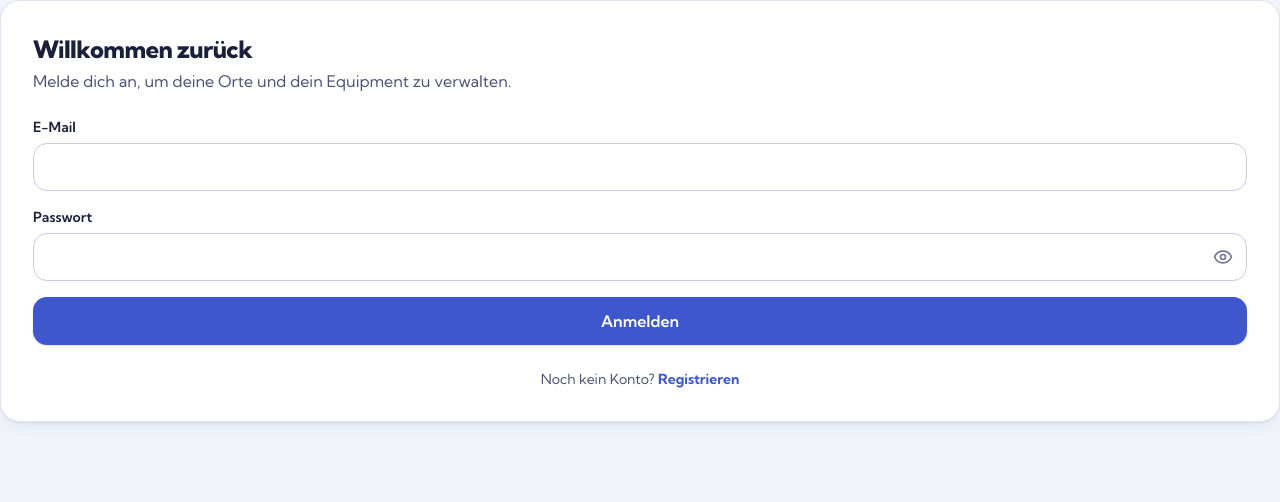
Test case: AuthForm (login) › shows a translated, generic error for wrong credentials and stays on the page
Type "ada@example.com" into the field labelled "E-Mail".
click(640, 167); type("ada@example.com")  # box [33,143,1247,191]
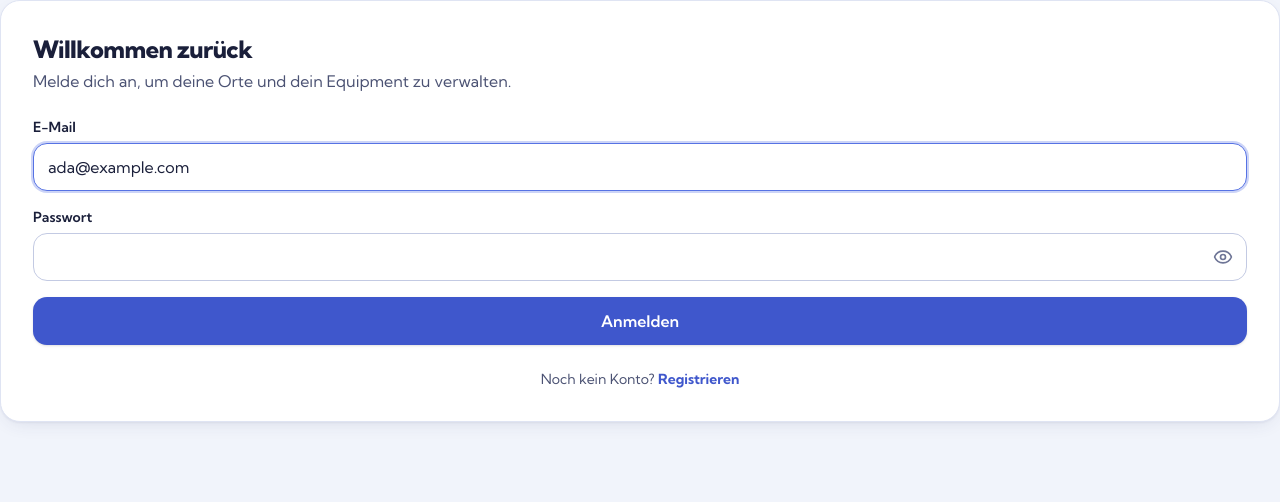
Type "wrong" into the password field labelled "Passwort".
click(640, 257); type("wrong")  # box [33,233,1247,281]
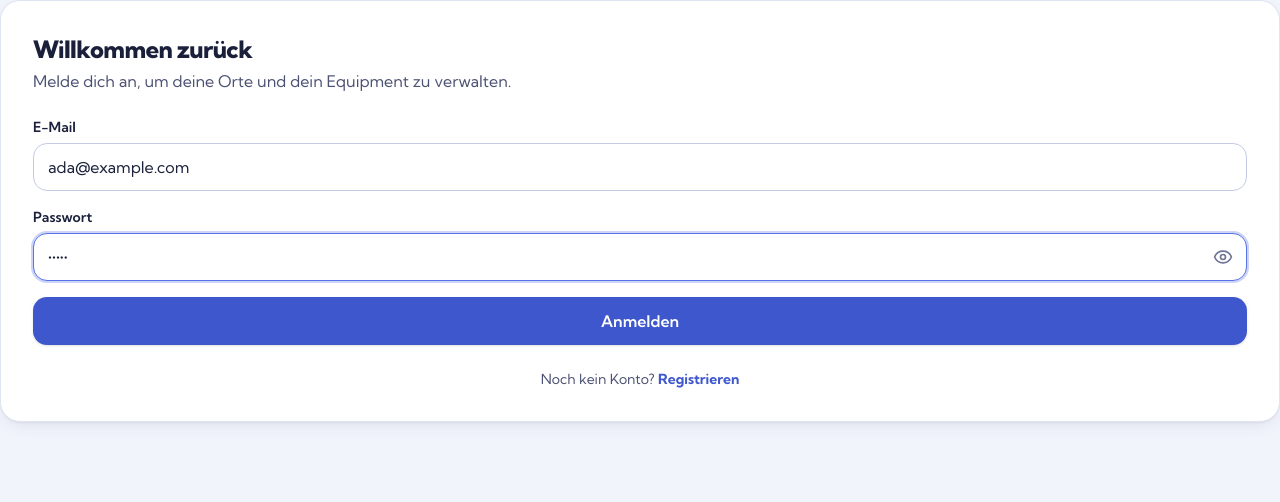
Click the button "Anmelden".
click(640, 321)  # box [33,297,1247,345]
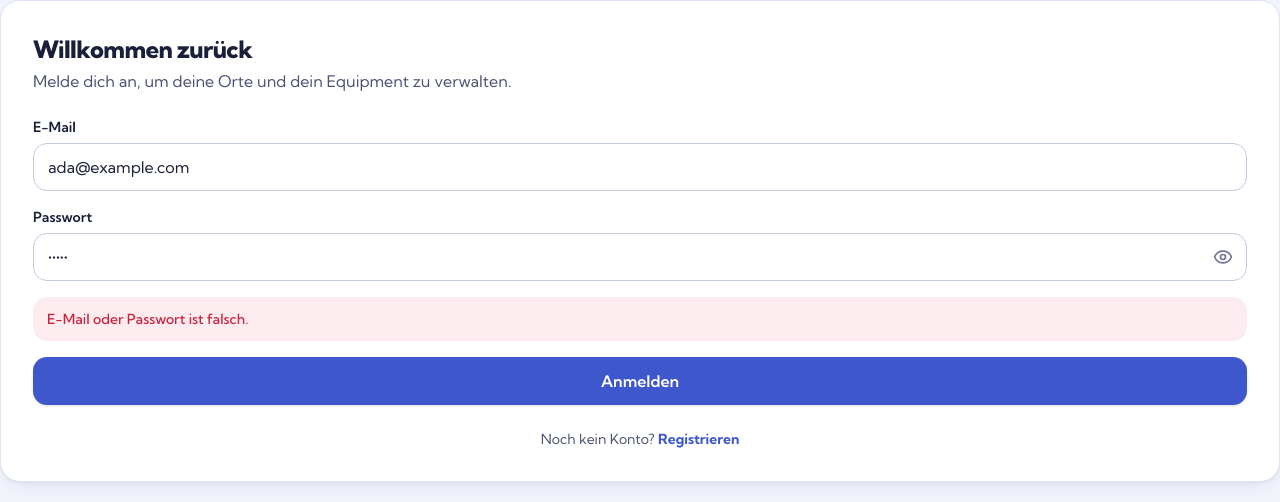
expect the button "Anmelden" is enabled: met, box [33,357,1247,405]
expect the message reads "E-Mail oder Passwort ist falsch.": met, box [47,310,248,328]
